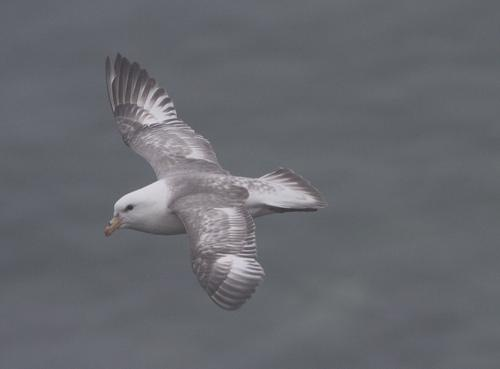bird: (101, 47, 328, 311)
